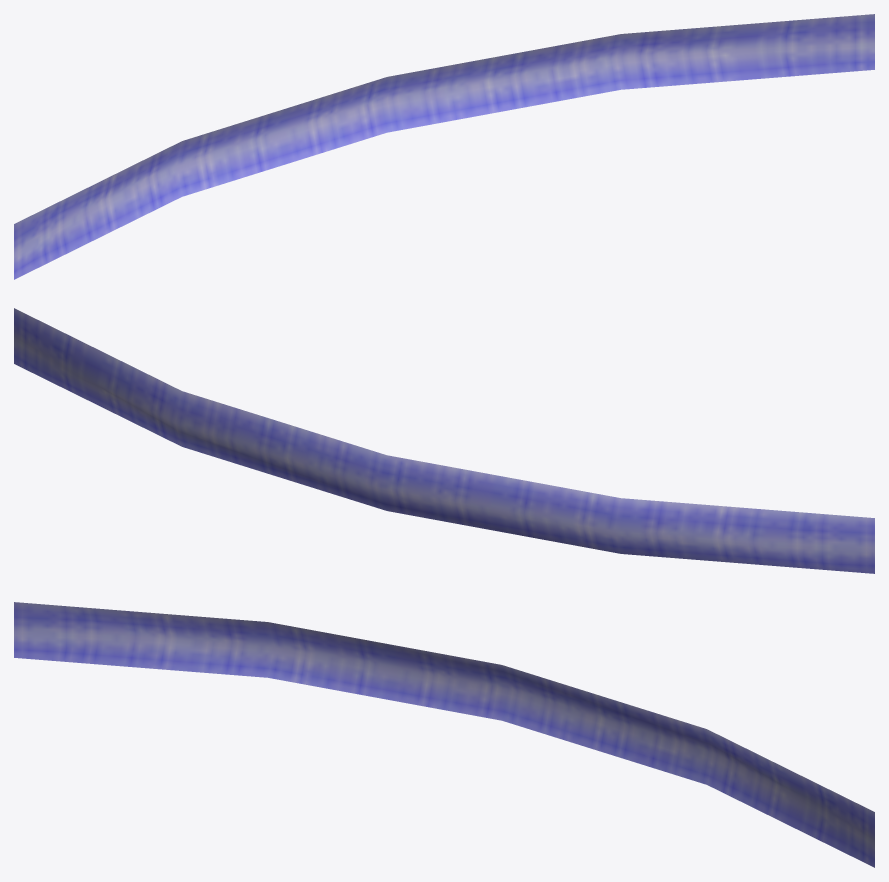
The model's file is yt1300_booster_s02_on_l0.fbx.
The picture shows the model from 3 angles, top to bottom: view 1: azimuth 30°, elevation 25°; view 2: azimuth 150°, elevation 25°; view 3: azimuth 330°, elevation 25°; orthographic projection.
Parts seen in each view (by area): view 1: mesh_node; view 2: mesh_node; view 3: mesh_node.
Part boxes in pixels (bbox=[...]): mesh_node: bbox=[14, 14, 874, 279]; mesh_node: bbox=[14, 308, 874, 573]; mesh_node: bbox=[14, 602, 874, 867].
Size of the model in its own units: 7.97 by 0.4934 by 1.01.
1 material, 1 textured.
